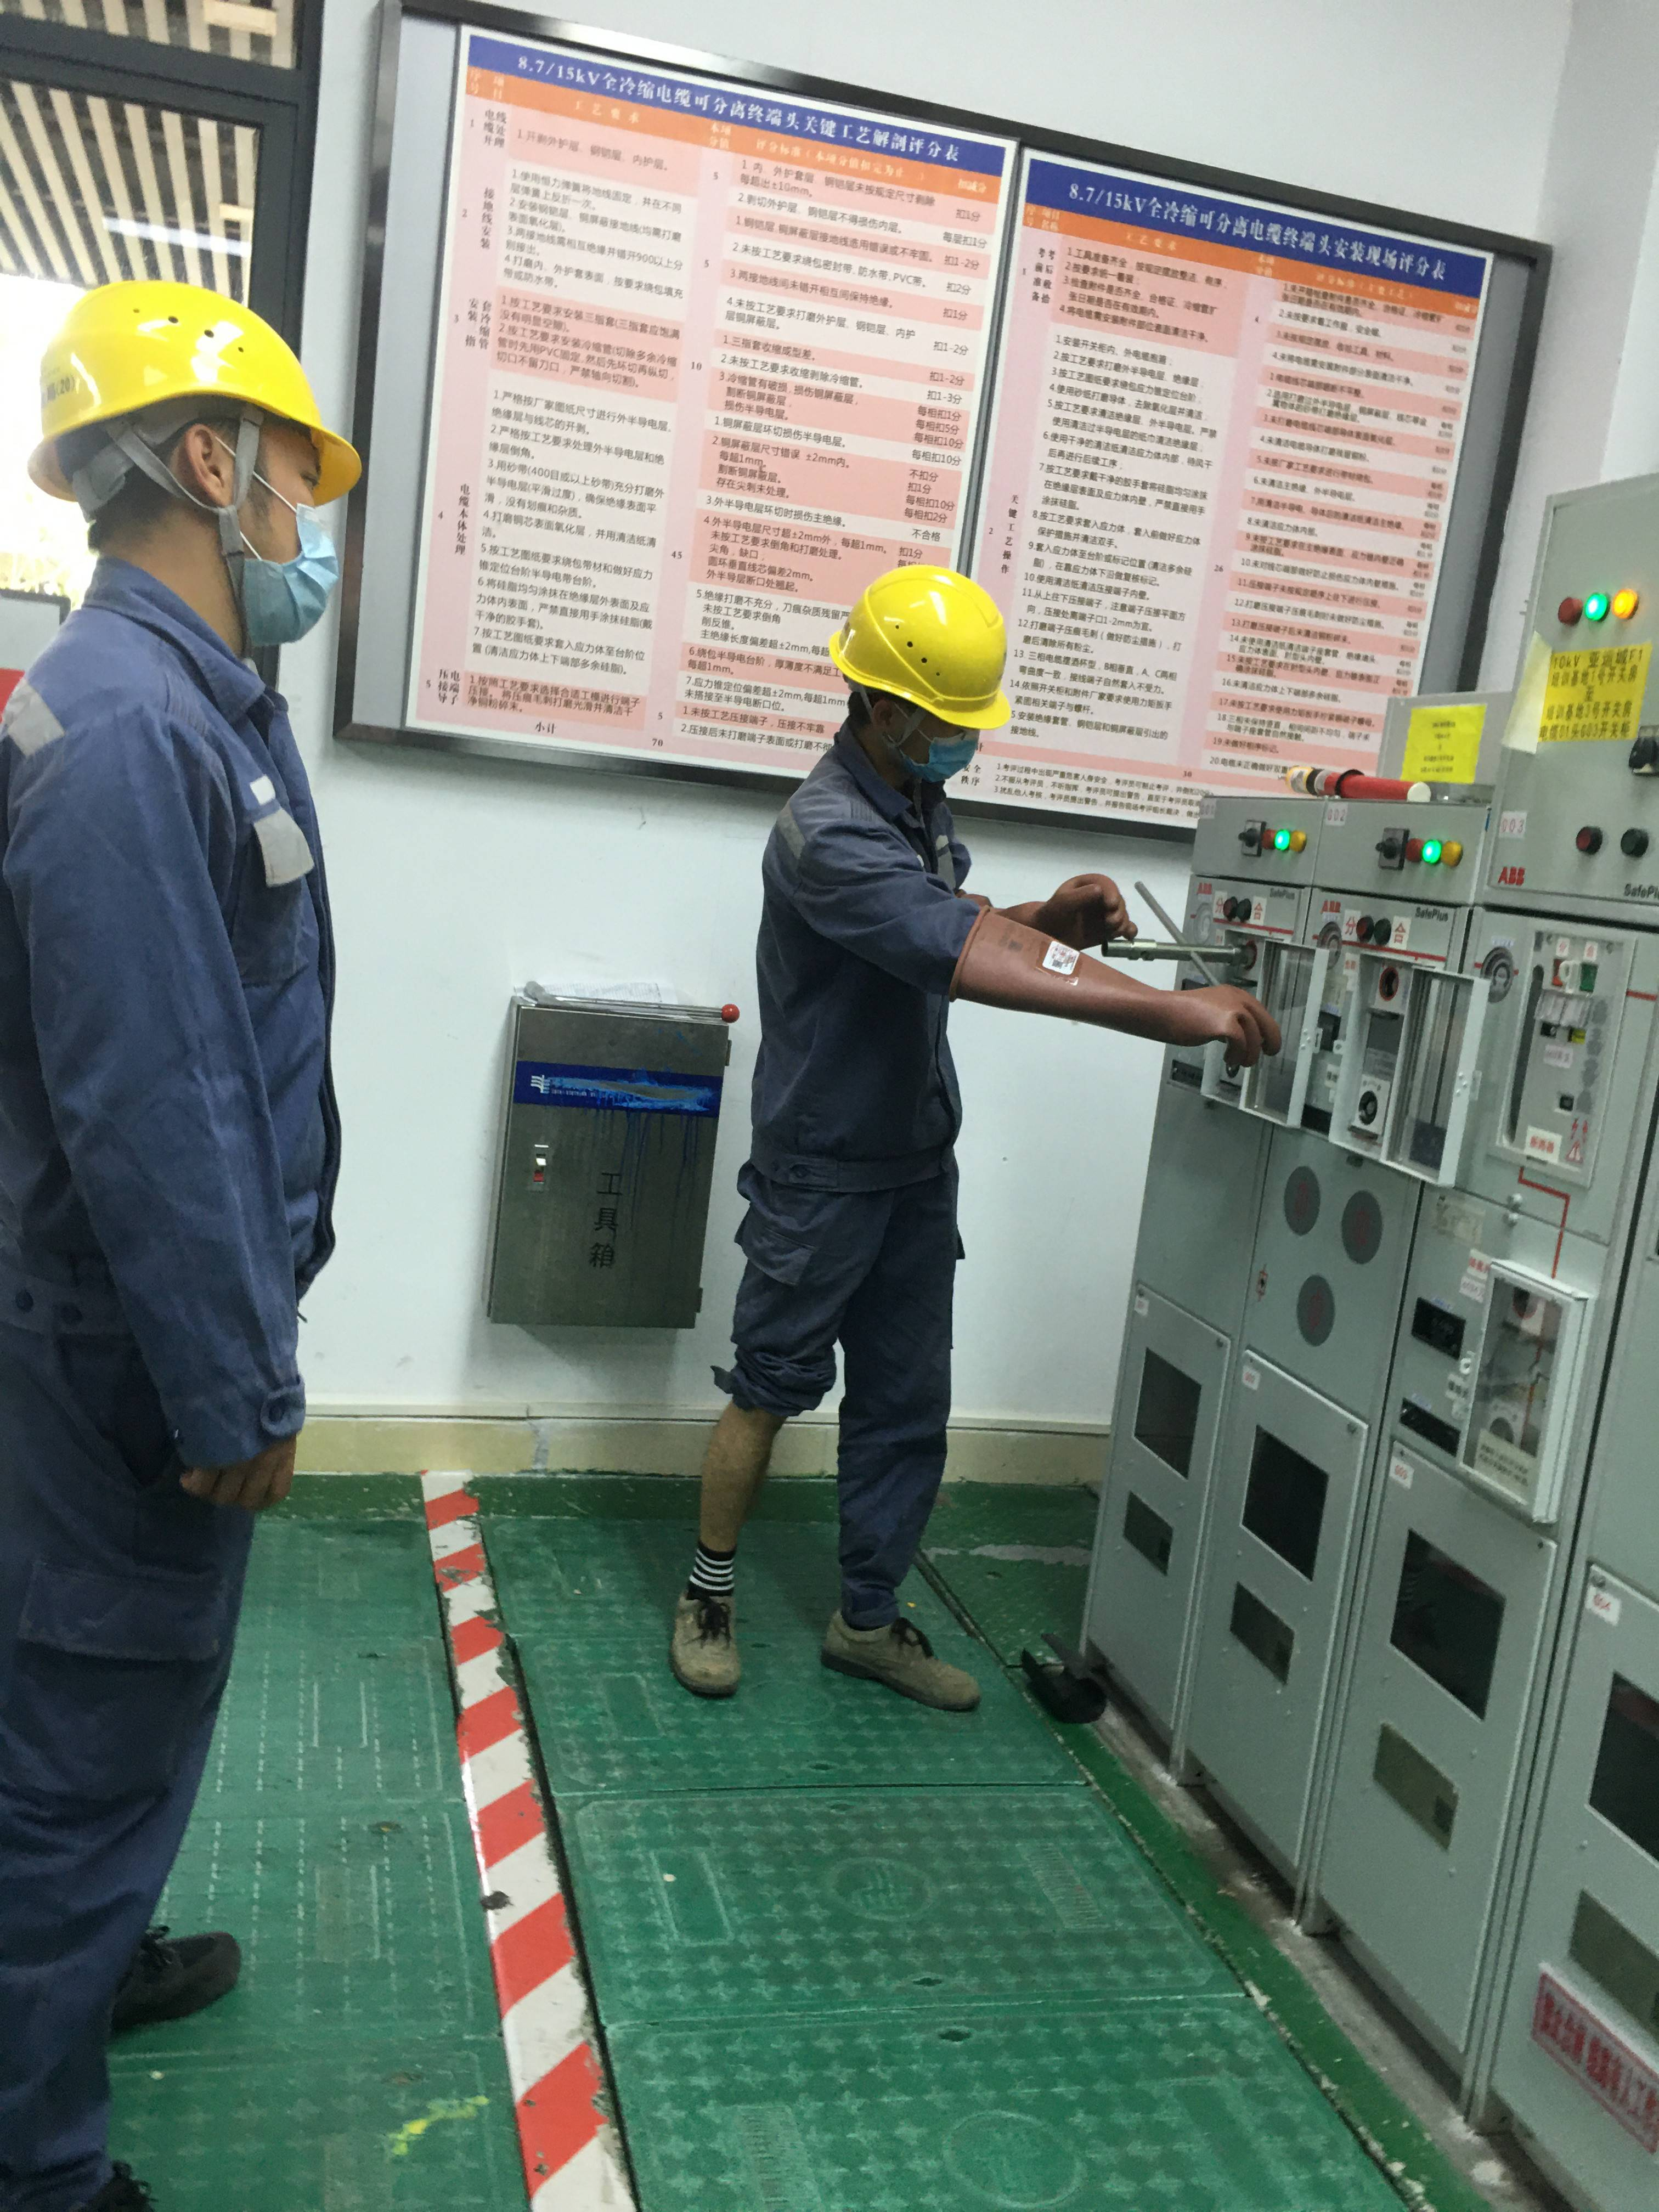downsuit: (14, 1362, 268, 2179), (714, 1162, 945, 1634)
upsuit: (7, 582, 357, 1460), (756, 758, 1016, 1205)
wrongbottom: (653, 1341, 847, 1609)
